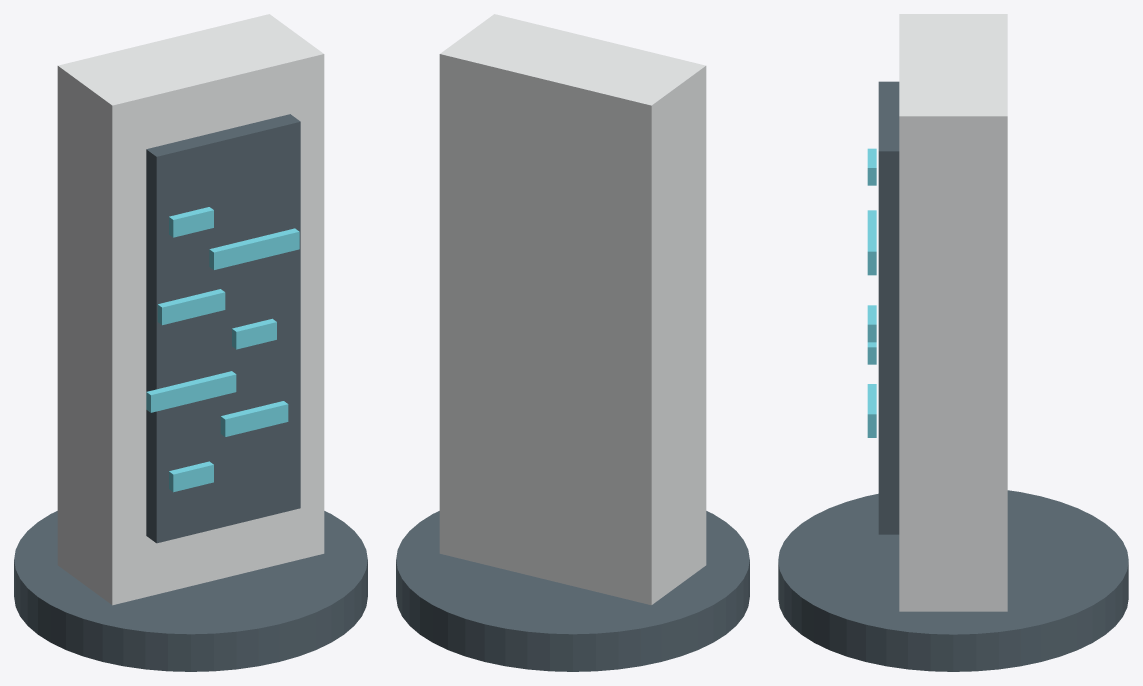
The model's file is data-monolith.glb.
The picture shows the model from 3 angles, left to right: view 1: azimuth 30°, elevation 25°; view 2: azimuth 150°, elevation 25°; view 3: azimuth 270°, elevation 25°; orthographic projection.
Visible parts, largest first — view 1: data-monolith-0, data-monolith-1, data-monolith-2, data-monolith-5, data-monolith-8, data-monolith-4, data-monolith-7, data-monolith-3, data-monolith-6, data-monolith-9; view 2: data-monolith-0, data-monolith-2; view 3: data-monolith-0, data-monolith-2, data-monolith-1, data-monolith-8.
Part boxes in pixels (x1,y1,x2,y2): data-monolith-0: (57, 14, 324, 605); data-monolith-1: (146, 114, 300, 543); data-monolith-2: (14, 511, 367, 671); data-monolith-5: (146, 371, 236, 412); data-monolith-8: (209, 228, 299, 269); data-monolith-4: (220, 401, 288, 436); data-monolith-7: (157, 289, 225, 325); data-monolith-3: (169, 461, 213, 492); data-monolith-6: (232, 318, 276, 349); data-monolith-9: (169, 207, 213, 237); data-monolith-0: (439, 14, 706, 605); data-monolith-2: (396, 511, 749, 671); data-monolith-0: (899, 14, 1007, 611); data-monolith-2: (778, 490, 1128, 671); data-monolith-1: (878, 81, 899, 534); data-monolith-8: (867, 210, 876, 268).
Size of the model in its own units: 1.36 by 2.28 by 1.36.
